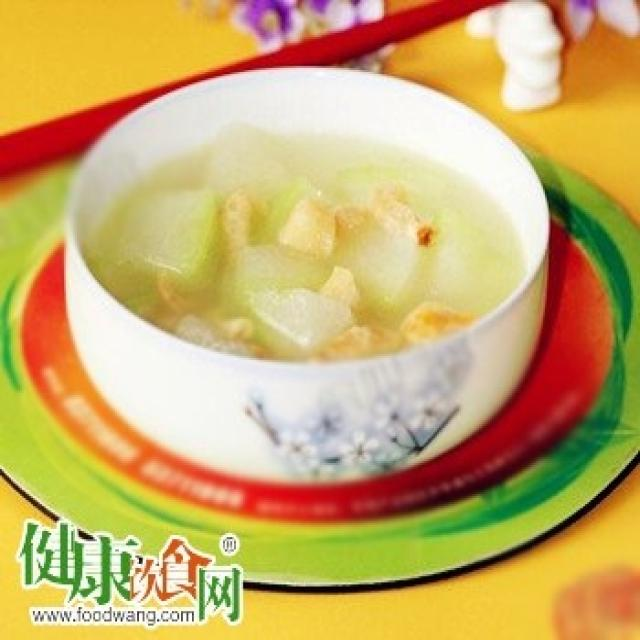汤锅炖物: (53, 51, 556, 424)
